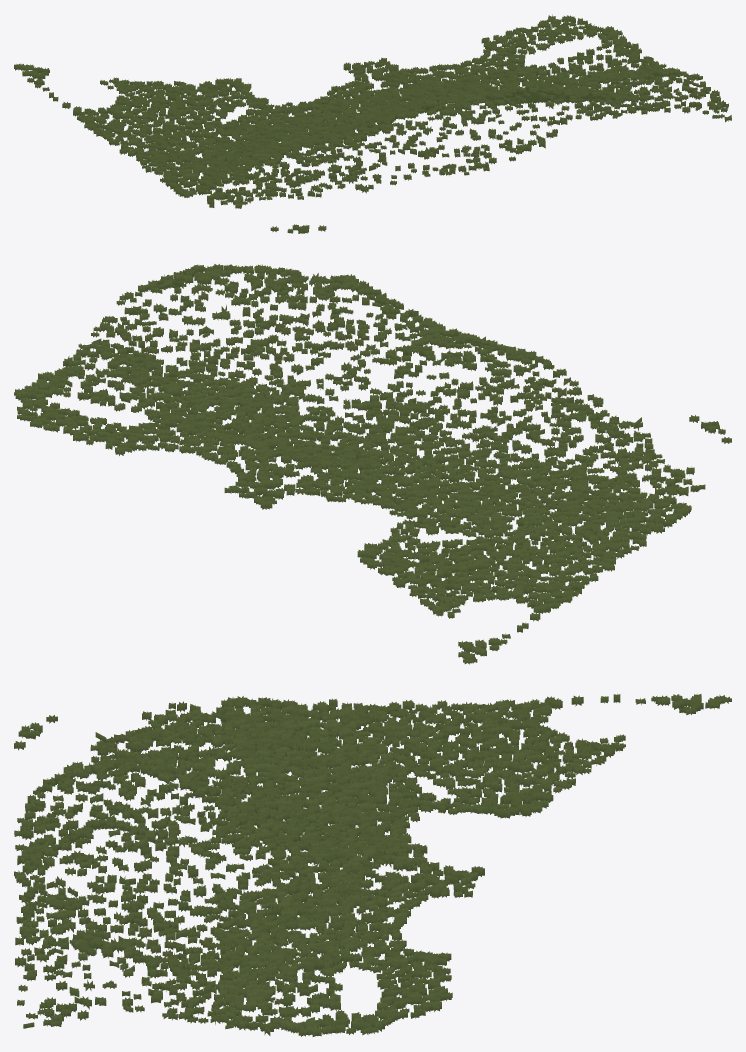
File: TRB8-GRASS-CHUNK-2-5.glb
3 renders of one model, top to bottom at view 1: azimuth 30°, elevation 25°; view 2: azimuth 150°, elevation 25°; view 3: azimuth 270°, elevation 25°, orthographic. The views are drawn at different scales.
Visible parts, largest first — view 1: TRB8-GRASS-CHUNK-2-5; view 2: TRB8-GRASS-CHUNK-2-5; view 3: TRB8-GRASS-CHUNK-2-5.
Part boxes in pixels (x1,y1,x2,y2): TRB8-GRASS-CHUNK-2-5: (14,14,731,233); TRB8-GRASS-CHUNK-2-5: (14,264,731,664); TRB8-GRASS-CHUNK-2-5: (14,694,731,1036).
Size of the model in its own units: 40.53 by 5.61 by 35.31.
Materials: 1 (1 with a texture image).
